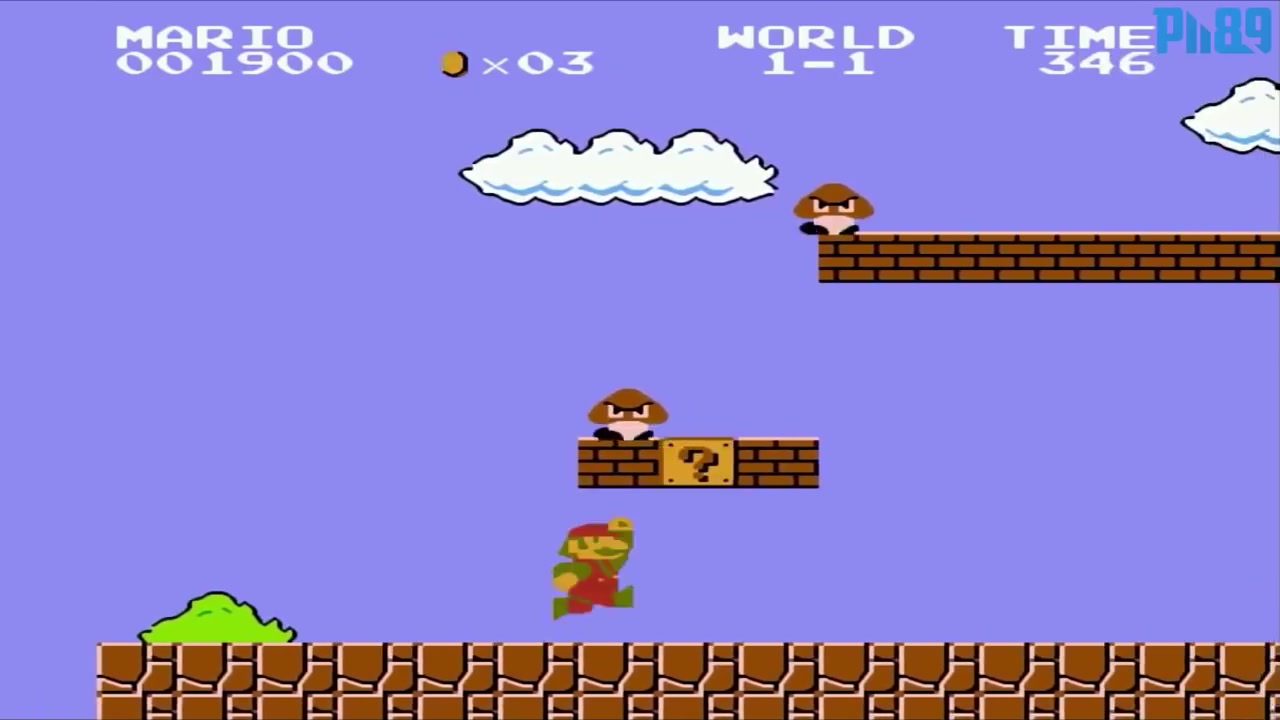mario: (540, 512, 651, 625)
